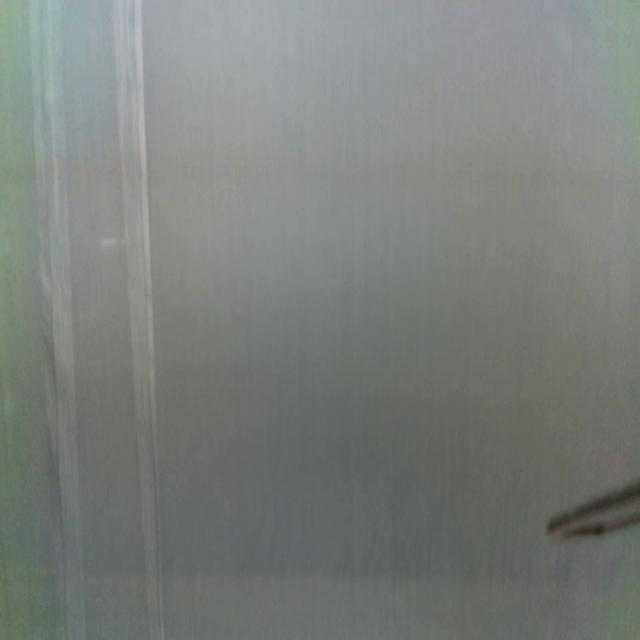color bleeding: (1, 537, 600, 602), (2, 146, 640, 196)
crease: (29, 1, 89, 640), (114, 0, 165, 640)
